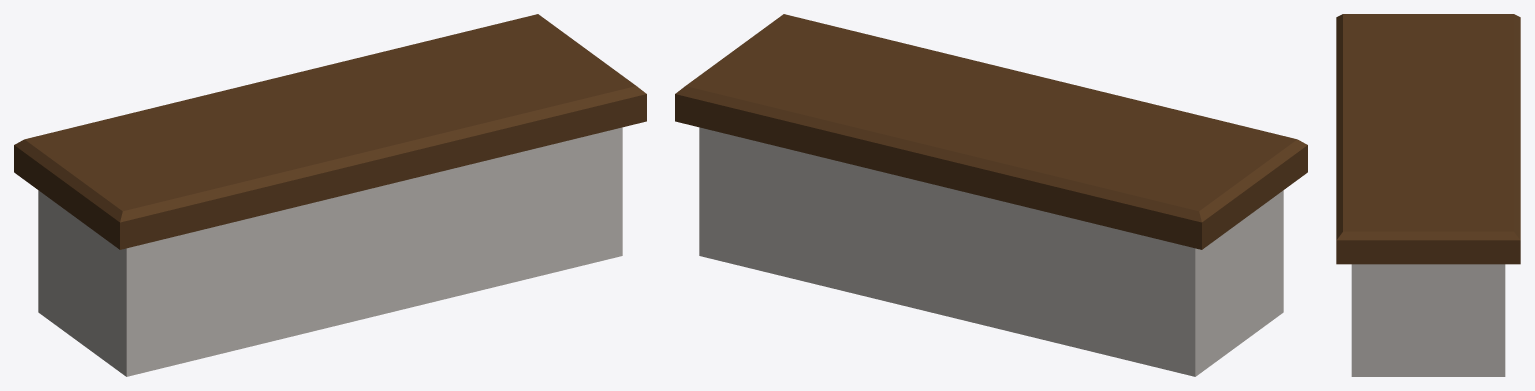
File: SM_KitchenIsland.fbx
3 renders of one model, left to right at view 1: azimuth 30°, elevation 25°; view 2: azimuth 150°, elevation 25°; view 3: azimuth 270°, elevation 25°, orthographic. The views are drawn at different scales.
Visible parts, largest first — view 1: SM_KitchenIsland; view 2: SM_KitchenIsland; view 3: SM_KitchenIsland.
Boxes of the visible parts, x1,y1,x2,y2 form: SM_KitchenIsland: (14, 14, 646, 376); SM_KitchenIsland: (675, 14, 1307, 376); SM_KitchenIsland: (1336, 14, 1520, 376).
Size of the model in its own units: 3.45 by 1.07 by 1.2.
